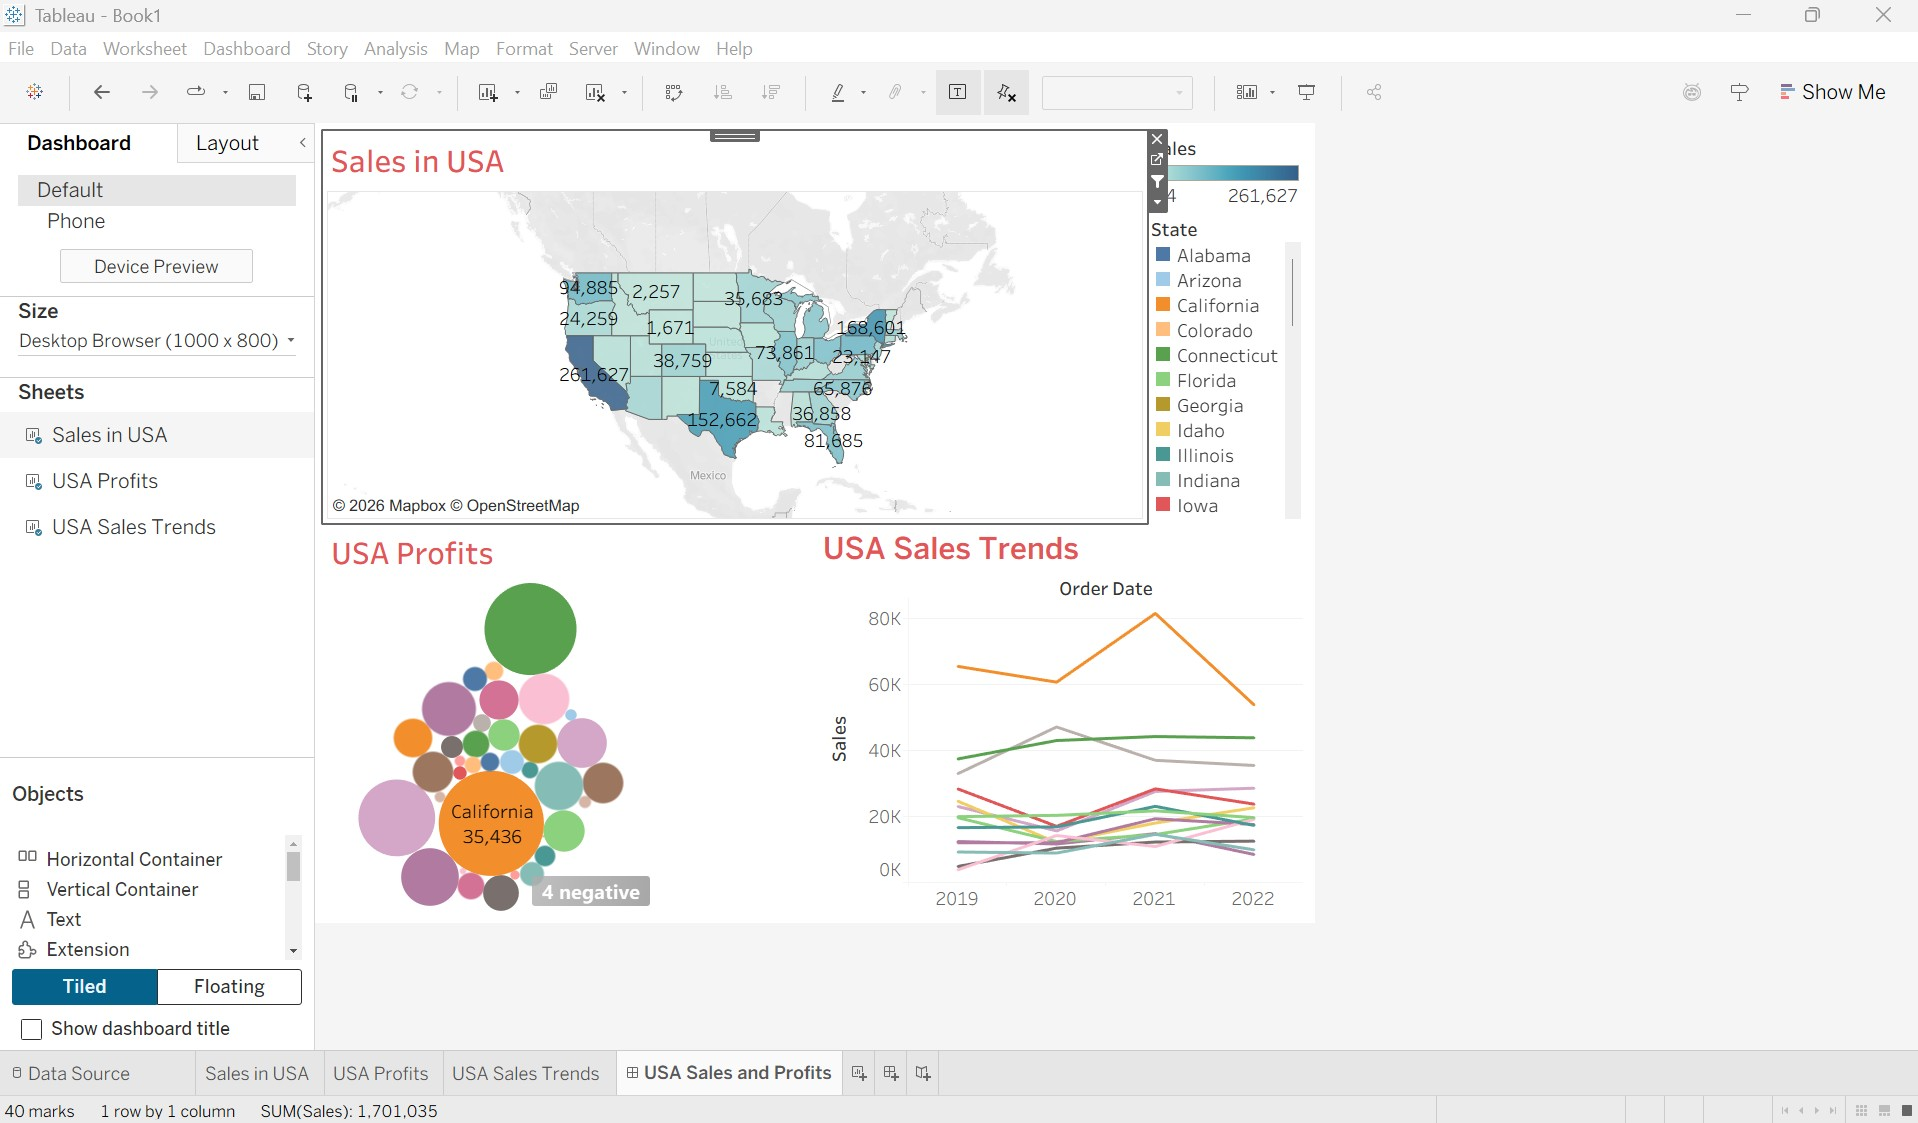

The page's visual inventory and layout, read from the dashboard file:
{"tool":"tableau","page":{"name":"USA Sales and Profits","canvas":[1000,800],"ordinal":0},"visuals":[{"type":"worksheet","title":"Sales in USA","mark":"Multipolygon","box":[8,8,824,392]},{"type":"legend","title":"Sales in USA","param":"[federated.1tcm1wo07sh3dj10ao5851xni79a].[sum:Sales:qk]","box":[832,8,160,81]},{"type":"legend","title":"USA Profits","param":"[federated.1tcm1wo07sh3dj10ao5851xni79a].[none:State:nk]","box":[832,89,160,311]},{"type":"worksheet","title":"USA Profits","mark":"Circle","box":[8,400,492,392]},{"type":"worksheet","title":"USA Sales Trends","mark":"Automatic","rows":["Sales"],"cols":["Order Date"],"box":[500,400,492,392]}]}

Visuals, with their boxes on the page's 1000x800 design canvas (x1, y1, x2, y2). These are canvas units, not pixel positions in the 1918x1123 screenshot, which may show the page scaled, cropped or inside an application window:
"Sales in USA" worksheet (Multipolygon marks): 8,8,832,400
"Sales in USA" legend: 832,8,992,89
"USA Profits" legend: 832,89,992,400
"USA Profits" worksheet (Circle marks): 8,400,500,792
"USA Sales Trends" worksheet: 500,400,992,792
